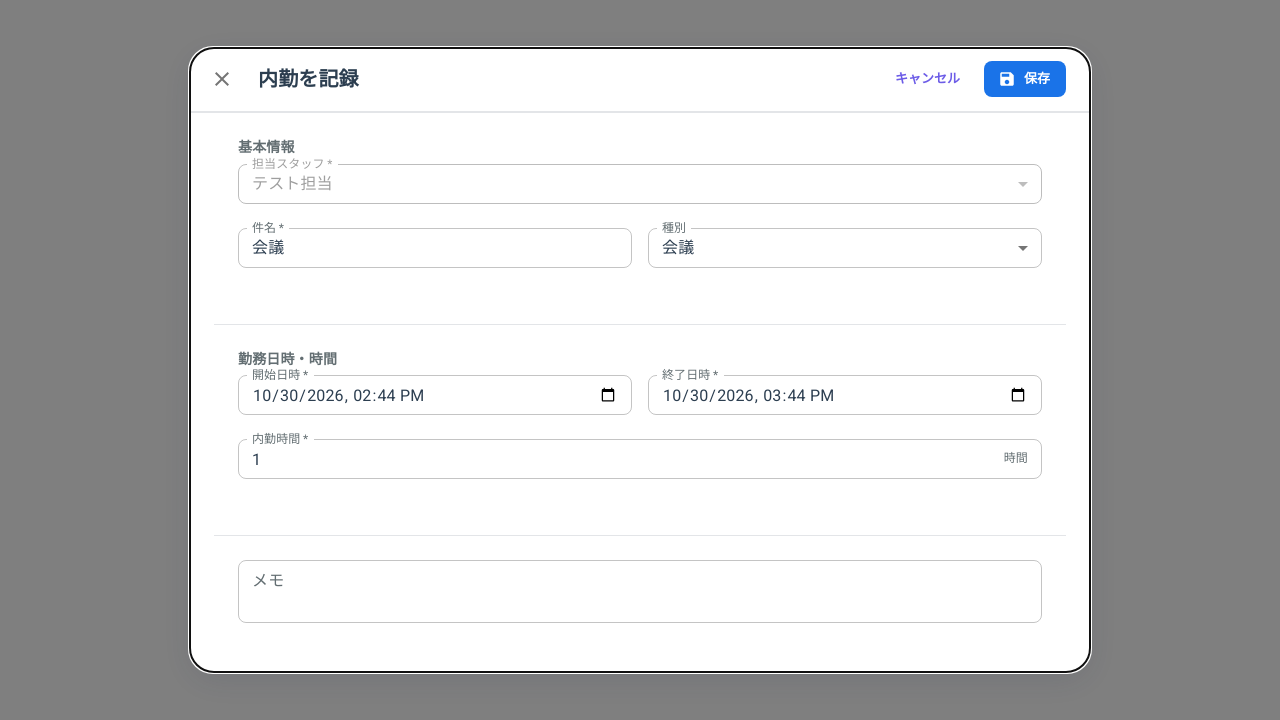
InternalWorkDialog record UI › retains every input after failure and resets it only after successful retry
Replace the text in the field labelled "件名" with "研修メモ" at coordinates (435, 248), box [238, 228, 632, 268]
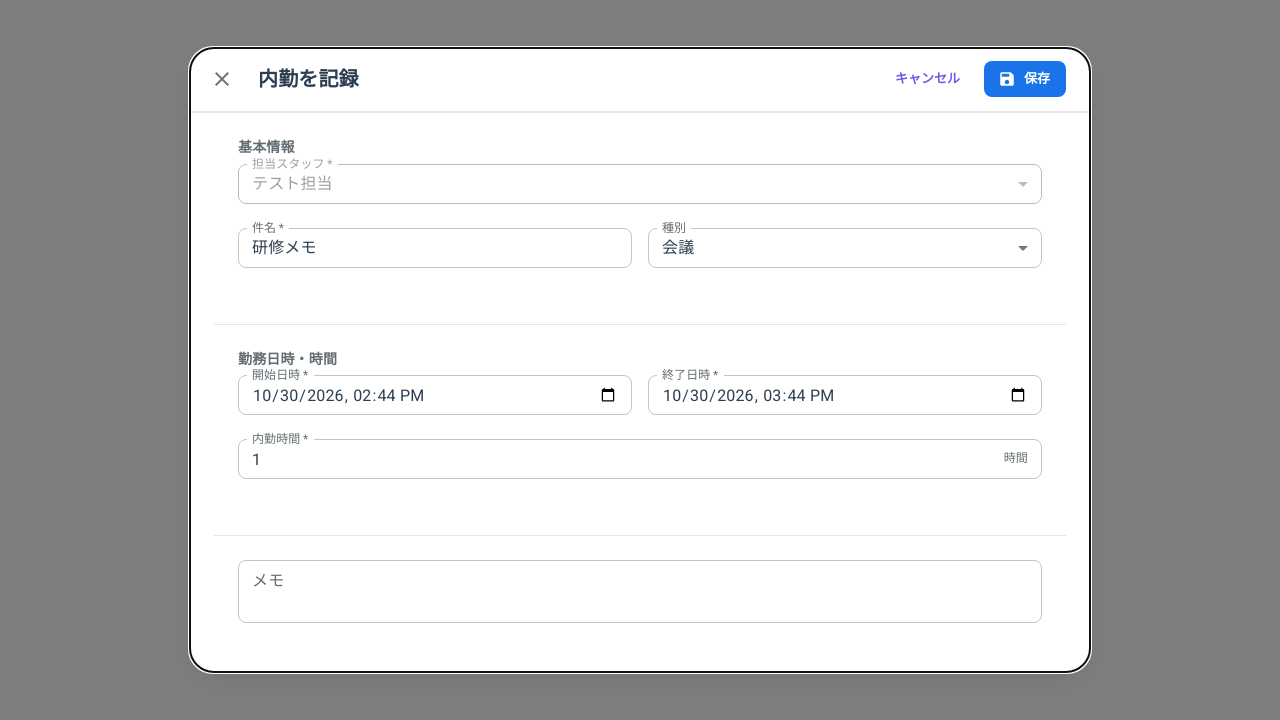
Replace the text in the number field labelled "内勤時間" with "2.5" at coordinates (617, 459), box [238, 439, 996, 479]
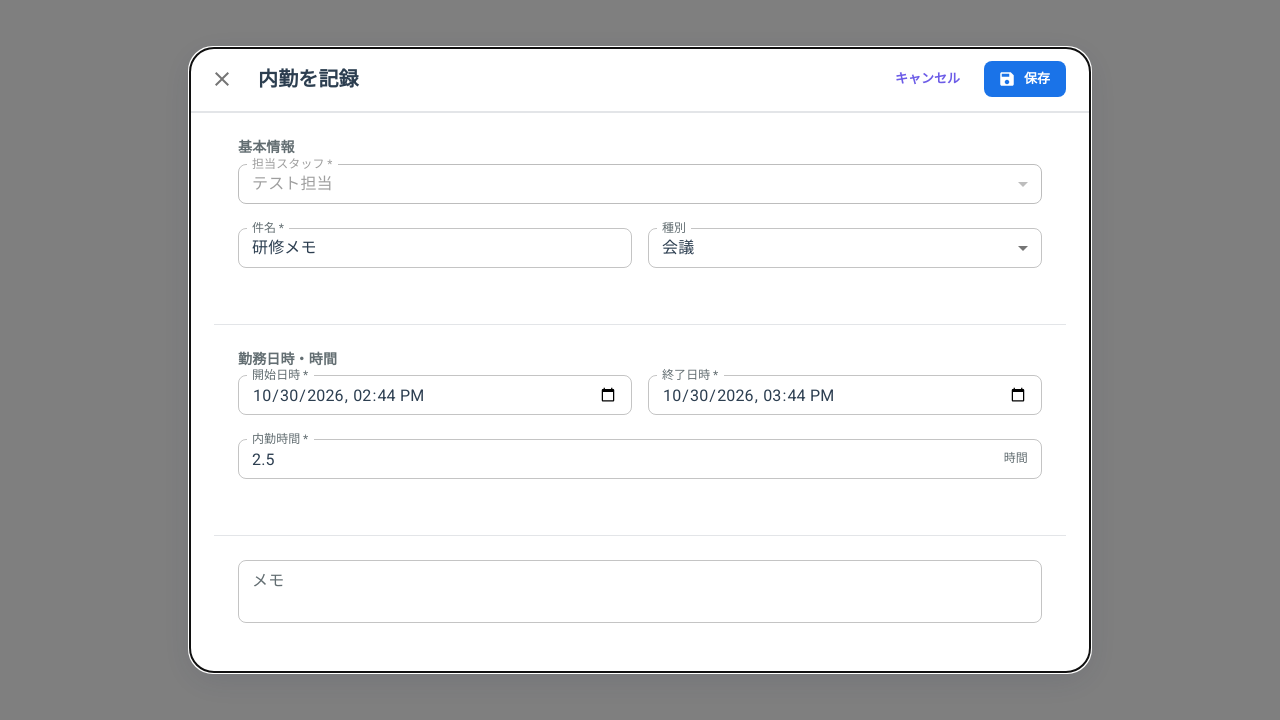
Type "再試行する入力" into the text box labelled "メモ" at coordinates (640, 592), box [252, 569, 1028, 615]
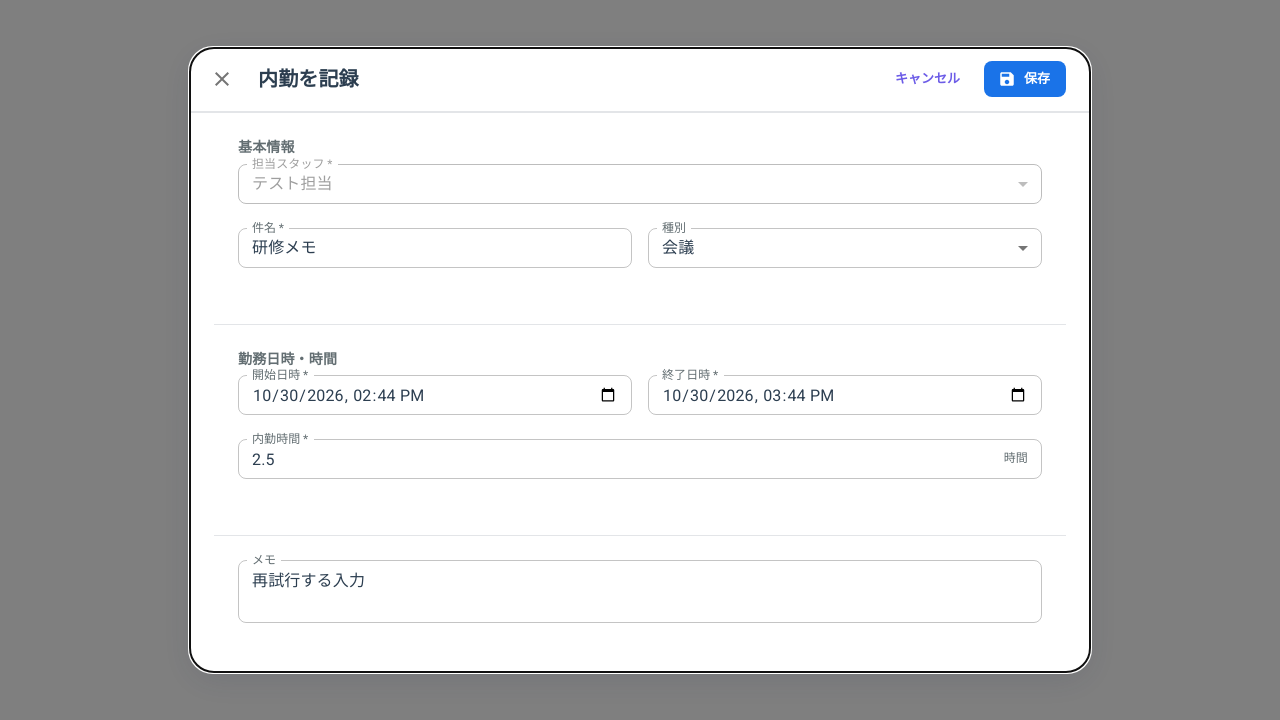
Click the button "保存" at coordinates (1025, 79), box [984, 61, 1066, 97]
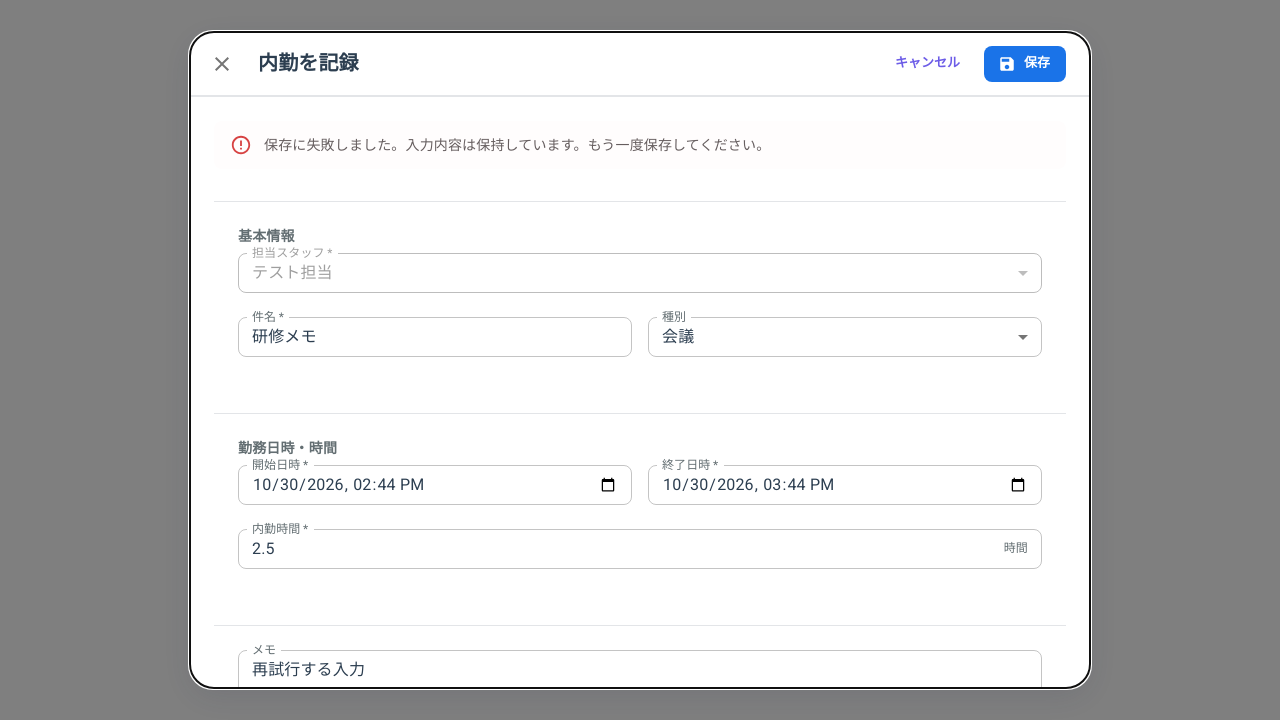
Now the message shows "入力内容は保持", box [264, 137, 770, 153]
Click the button "保存" at coordinates (1025, 64), box [984, 46, 1066, 82]
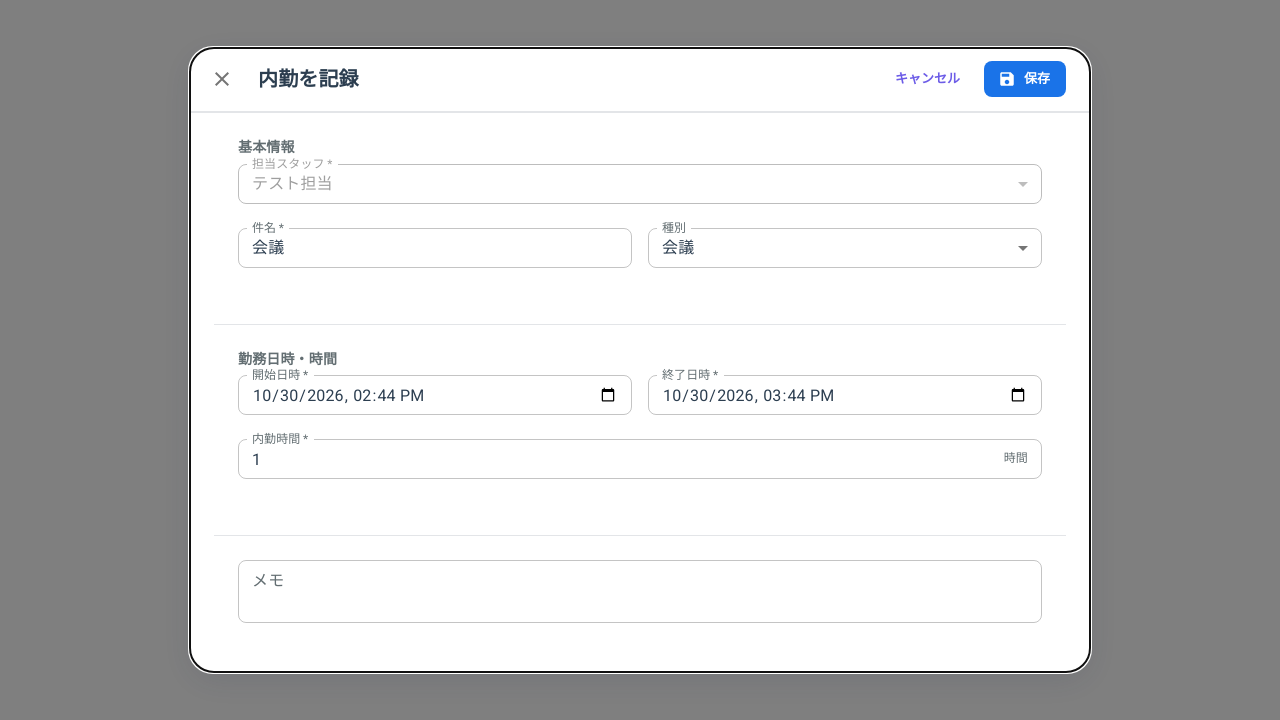
Now the field showing "会議" is shown, box [238, 228, 632, 268]
Now the text box labelled "メモ" is empty, box [252, 569, 1028, 615]
Now the number field labelled "内勤時間" holds "1", box [238, 439, 996, 479]
